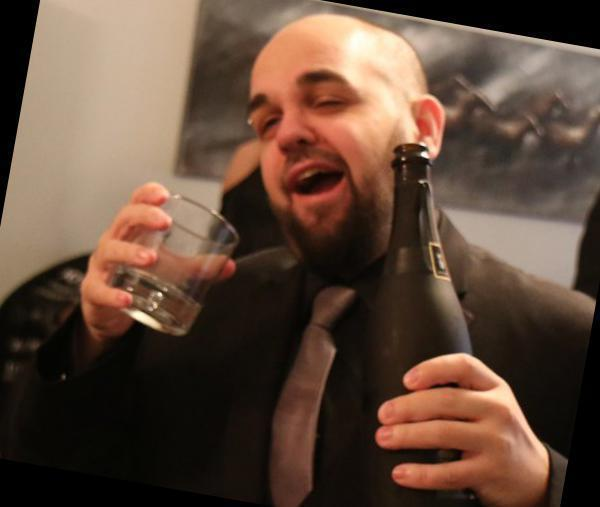Drunk: (254, 36, 390, 250)
